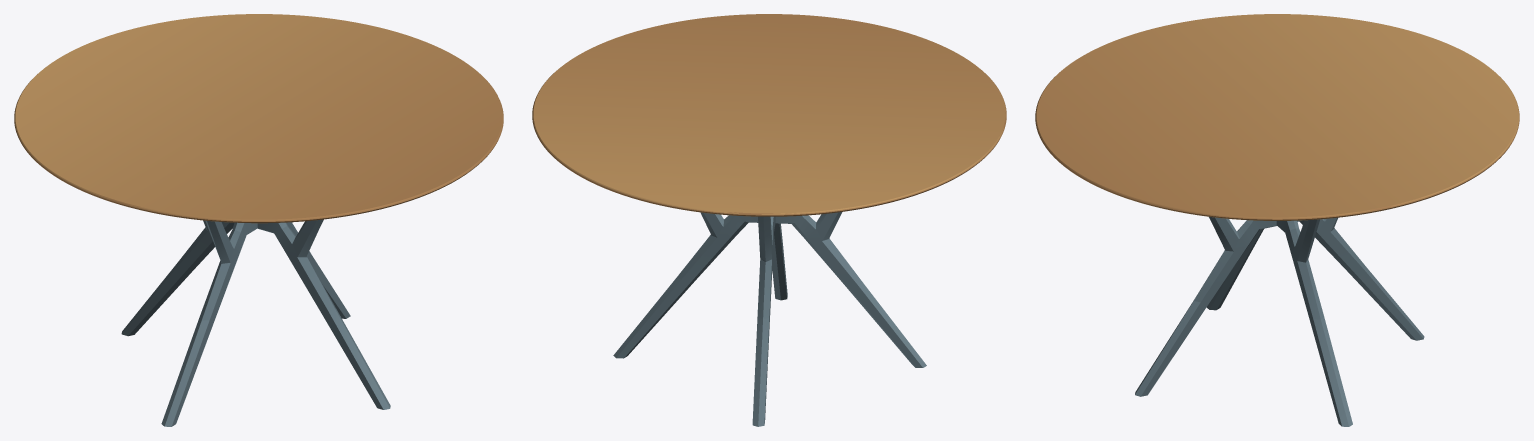
File: KitchenTable.fbx
The picture shows the model from 3 angles, left to right: view 1: azimuth 30°, elevation 25°; view 2: azimuth 150°, elevation 25°; view 3: azimuth 270°, elevation 25°; orthographic projection. The views are drawn at different scales.
Visible parts, largest first — view 1: kitchentable; view 2: kitchentable; view 3: kitchentable.
Boxes of the visible parts, x1,y1,x2,y2 form: kitchentable: (14,14,503,426); kitchentable: (532,14,1006,426); kitchentable: (1035,14,1519,426).
Size of the model in its own units: 264 by 151 by 264.
Materials: 1 (1 with a texture image).
